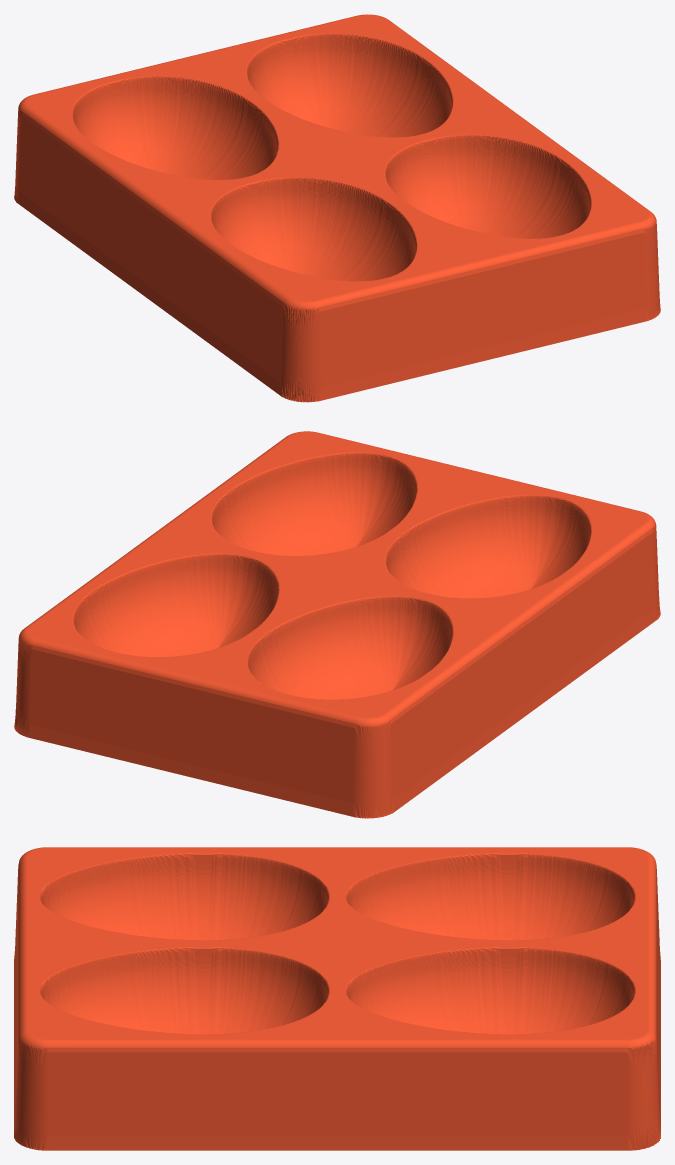
File: mold.glb
3 views of the same model, one above another, from view 1: azimuth 30°, elevation 25°; view 2: azimuth 150°, elevation 25°; view 3: azimuth 270°, elevation 25° (orthographic). The views are drawn at different scales.
Parts seen in each view (by area): view 1: geometry_0; view 2: geometry_0; view 3: geometry_0.
Part boxes in pixels (x1,y1,x2,y2): geometry_0: (14, 14, 660, 402); geometry_0: (14, 431, 660, 818); geometry_0: (14, 847, 660, 1150).
Bounding box in the file's own units: 0.1277 × 0.031 × 0.1721.
